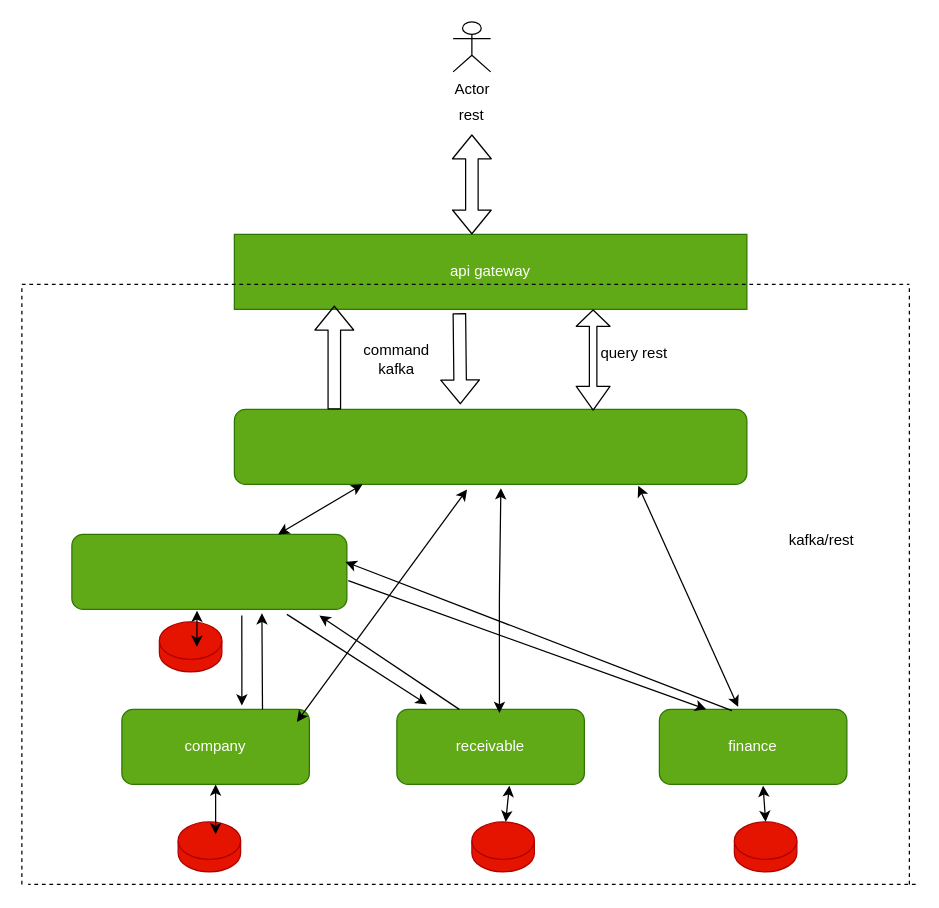
The diagram is 939 pixels wide and 908 high, and some of its shapes have lost their labels. Each missing label, with the centre of its shape:
"orchestration" goes at (490,446).
"workflow" goes at (209,571).
